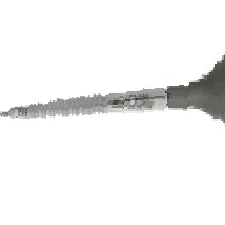Screwdriver: (1, 49, 225, 137)
